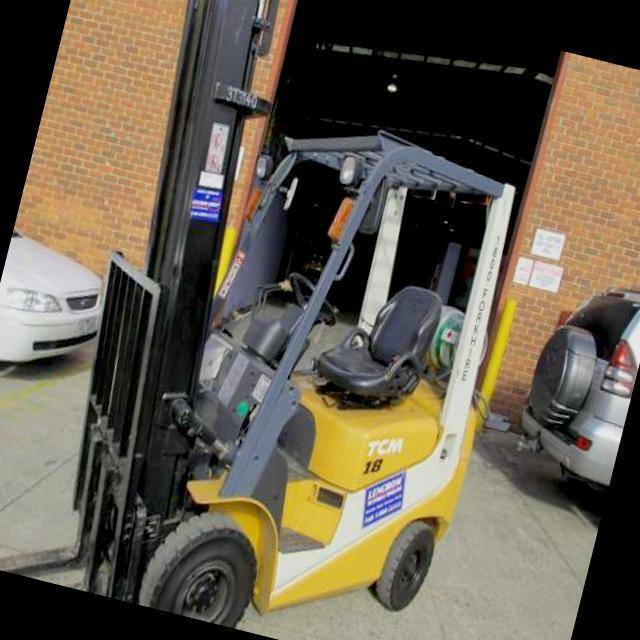forklift: (18, 62, 534, 640)
